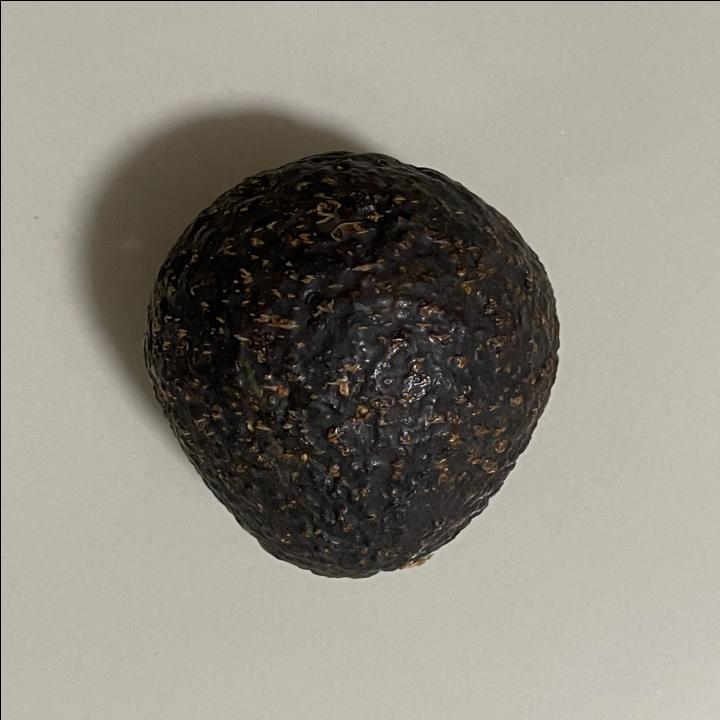Level3: (129, 141, 573, 590)
